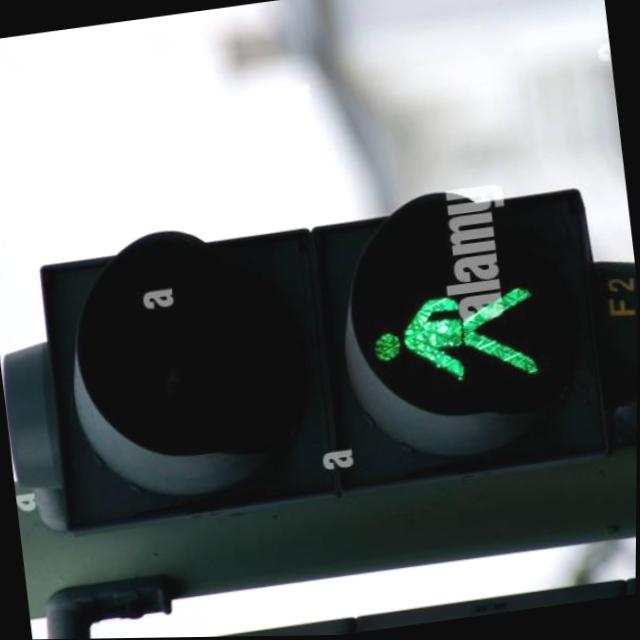green_light: (352, 268, 560, 394)
